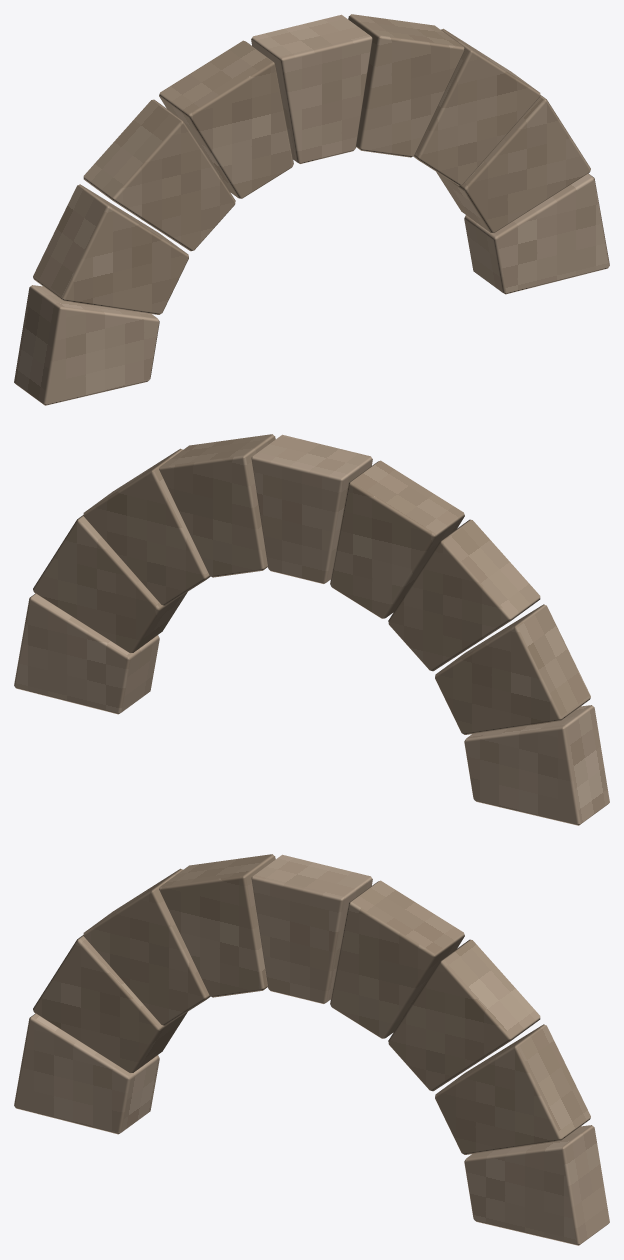
Rendered from Arch.glb.
3 renders of one model, top to bottom at view 1: azimuth 30°, elevation 25°; view 2: azimuth 150°, elevation 25°; view 3: azimuth 330°, elevation 25°, orthographic.
Visible parts, largest first — view 1: Arch; view 2: Arch; view 3: Arch.
Boxes of the visible parts, box(x1,y1,x2,y2) form: Arch: box(14, 14, 609, 405); Arch: box(14, 434, 609, 825); Arch: box(14, 854, 609, 1245).
Bounding box in the file's own units: 1.13 × 0.557 × 0.111.
Materials: 2 (2 with a texture image).
